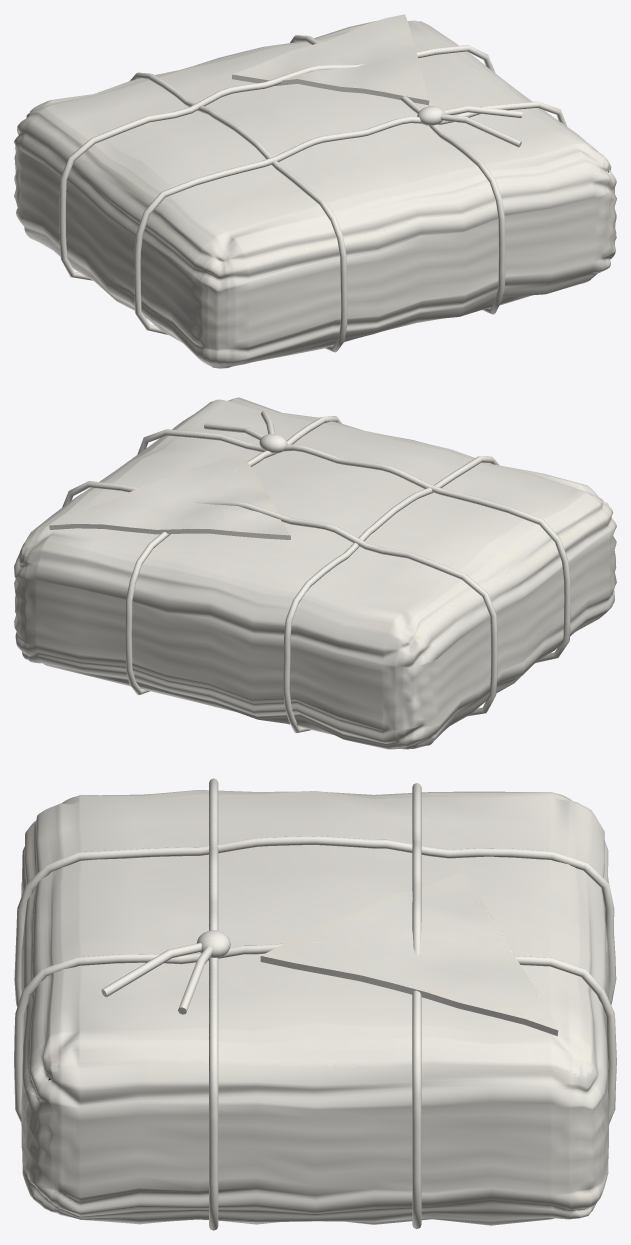
File: w51wrapped.glb
3 renders of one model, top to bottom at view 1: azimuth 30°, elevation 25°; view 2: azimuth 150°, elevation 25°; view 3: azimuth 270°, elevation 25°, orthographic. The views are drawn at different scales.
Visible parts, largest first — view 1: wrapped; view 2: wrapped; view 3: wrapped.
Boxes of the visible parts, <box> form: wrapped: <box>14,14,616,368</box>; wrapped: <box>14,397,616,749</box>; wrapped: <box>14,778,616,1230</box>.
Size of the model in its own units: 0.086 by 0.0323 by 0.0746.
1 material, 1 textured.
